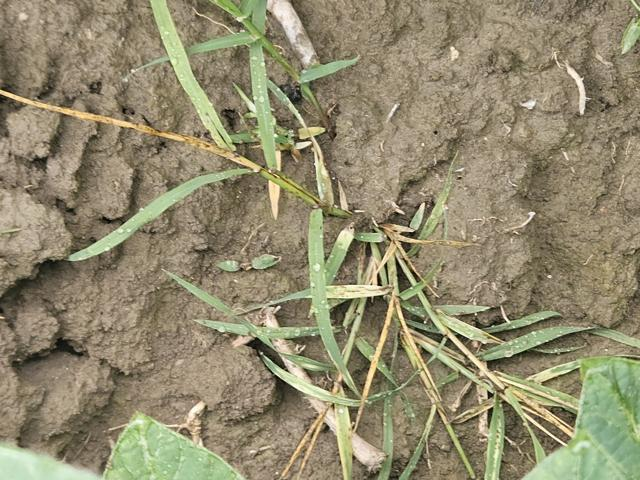bad weed: (52, 10, 569, 441)
